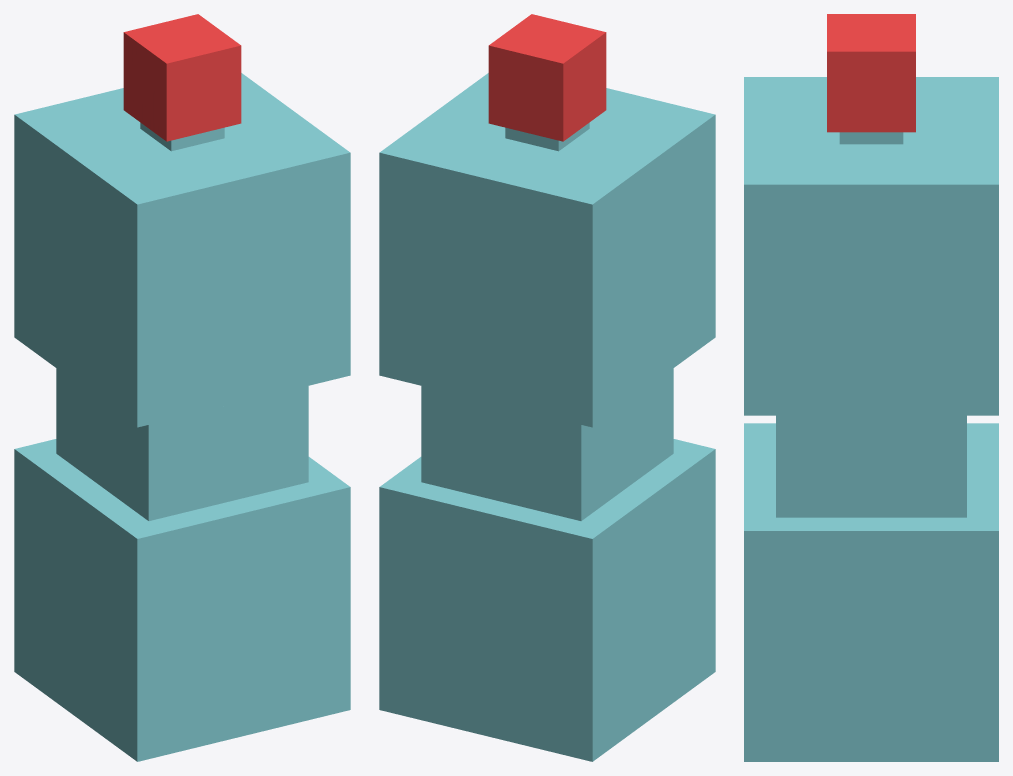
File: water_bottle.gltf
3 views of the same model, side by side, from view 1: azimuth 30°, elevation 25°; view 2: azimuth 150°, elevation 25°; view 3: azimuth 270°, elevation 25° (orthographic). The views are drawn at different scales.
Visible parts, largest first — view 1: cube (×3); view 2: cube (×3); view 3: cube (×3).
Boxes of the visible parts, left/top/right/bottom form: cube (×3): left=14, top=14, right=350, bottom=761; cube (×3): left=379, top=14, right=715, bottom=761; cube (×3): left=744, top=14, right=998, bottom=761.
Size of the model in its own units: 0.125 by 0.3656 by 0.125.
Materials: 3 (3 with a texture image).
